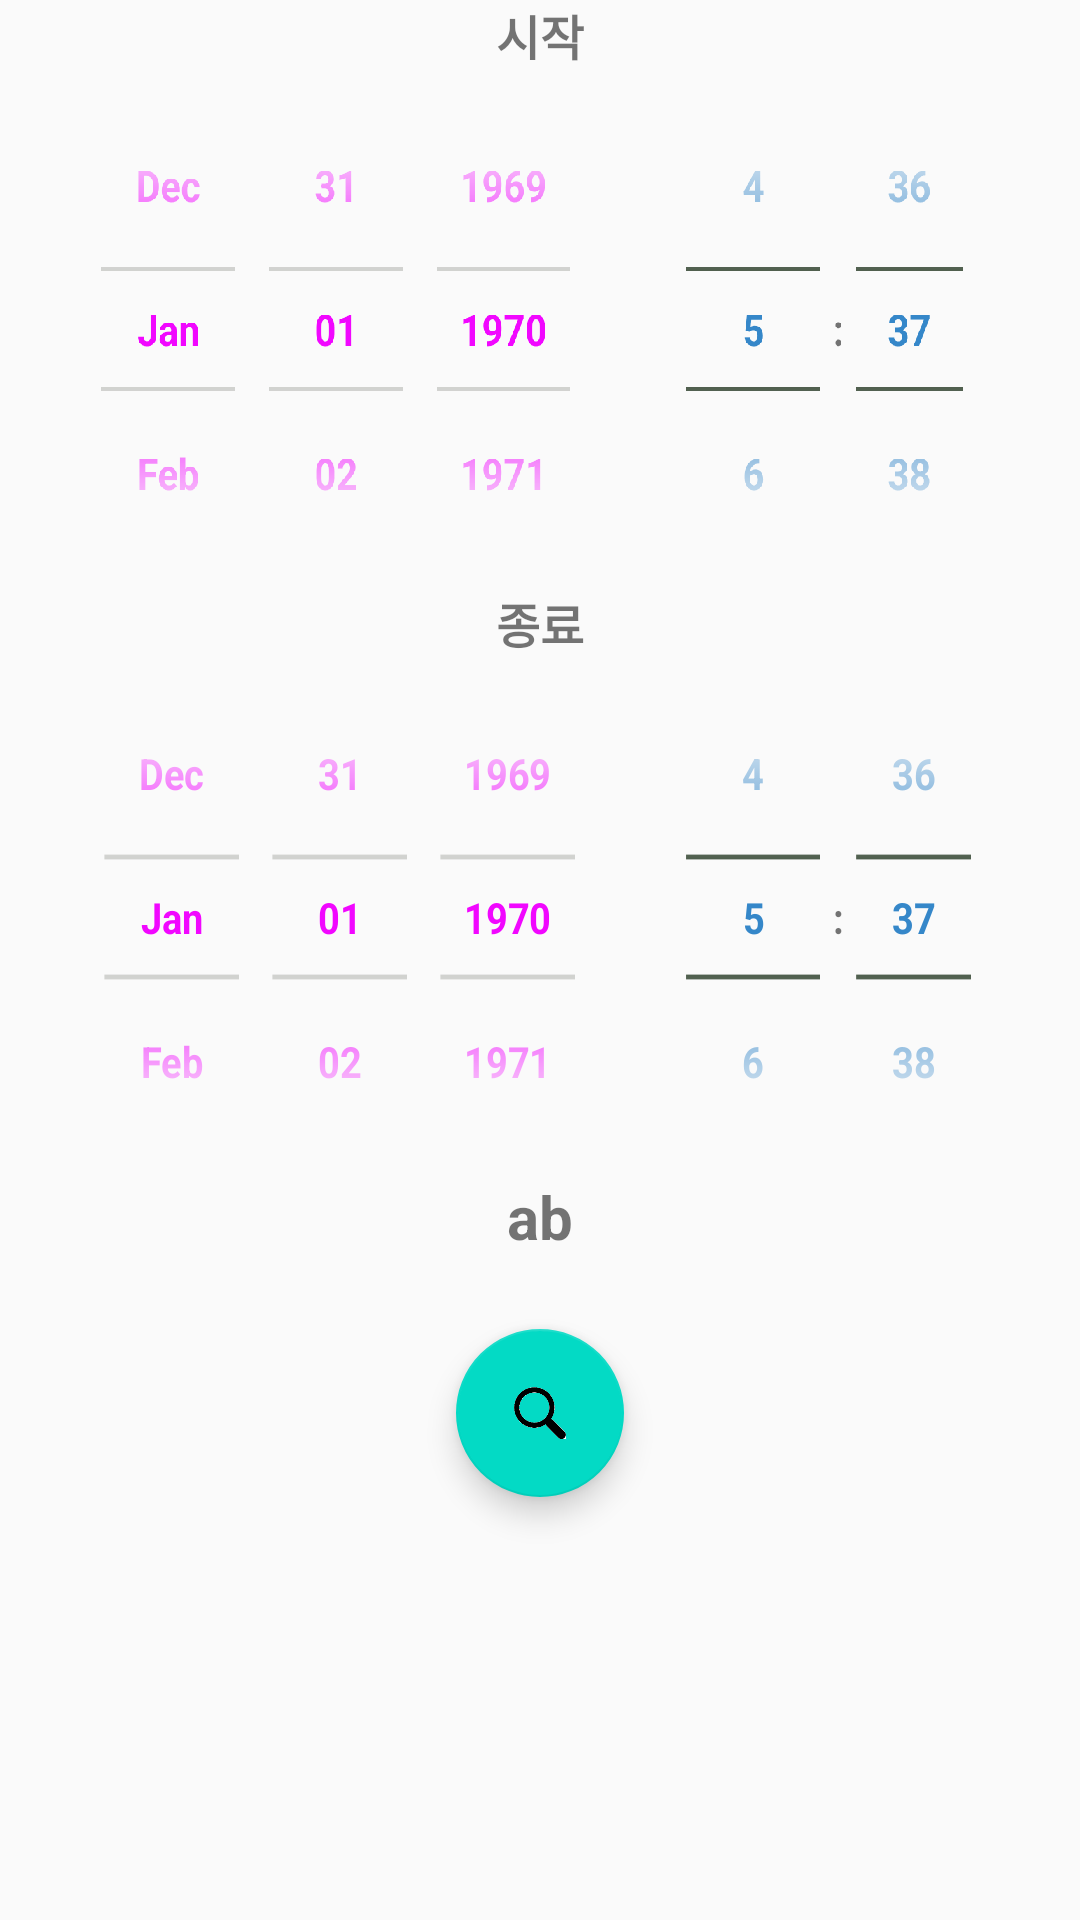

Icon click points for this 1080x1920 phone screenshot, format [x,y]:
magnify glass: [540,1413]
